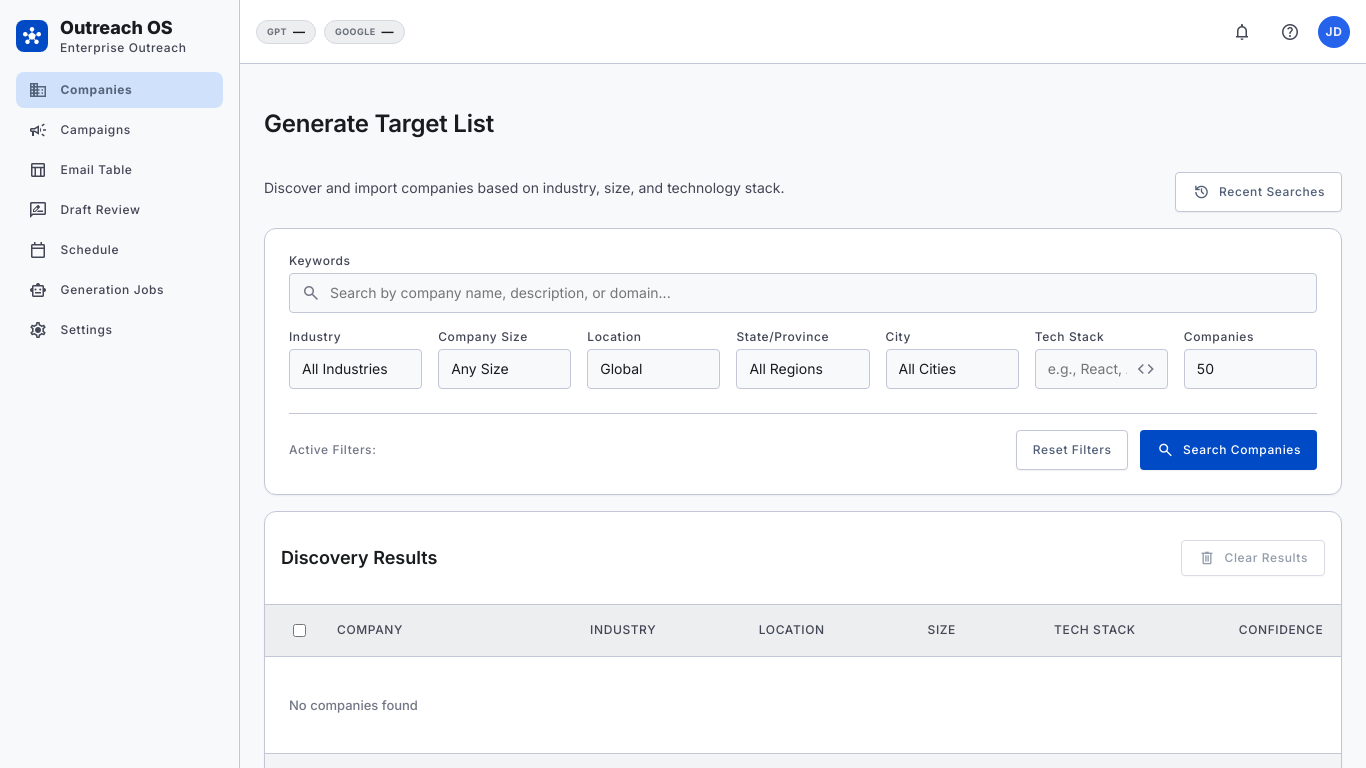
App navigation › switches between Generation Jobs and Companies from the sidebar
Expected: the heading "Generate Target List" is shown, [264,109,494,138]
Expected: the button named "Notifications" is shown, [1222,12,1262,52]
Click the button "Generation Jobs": coordinates (120, 290) [16,272,223,308]
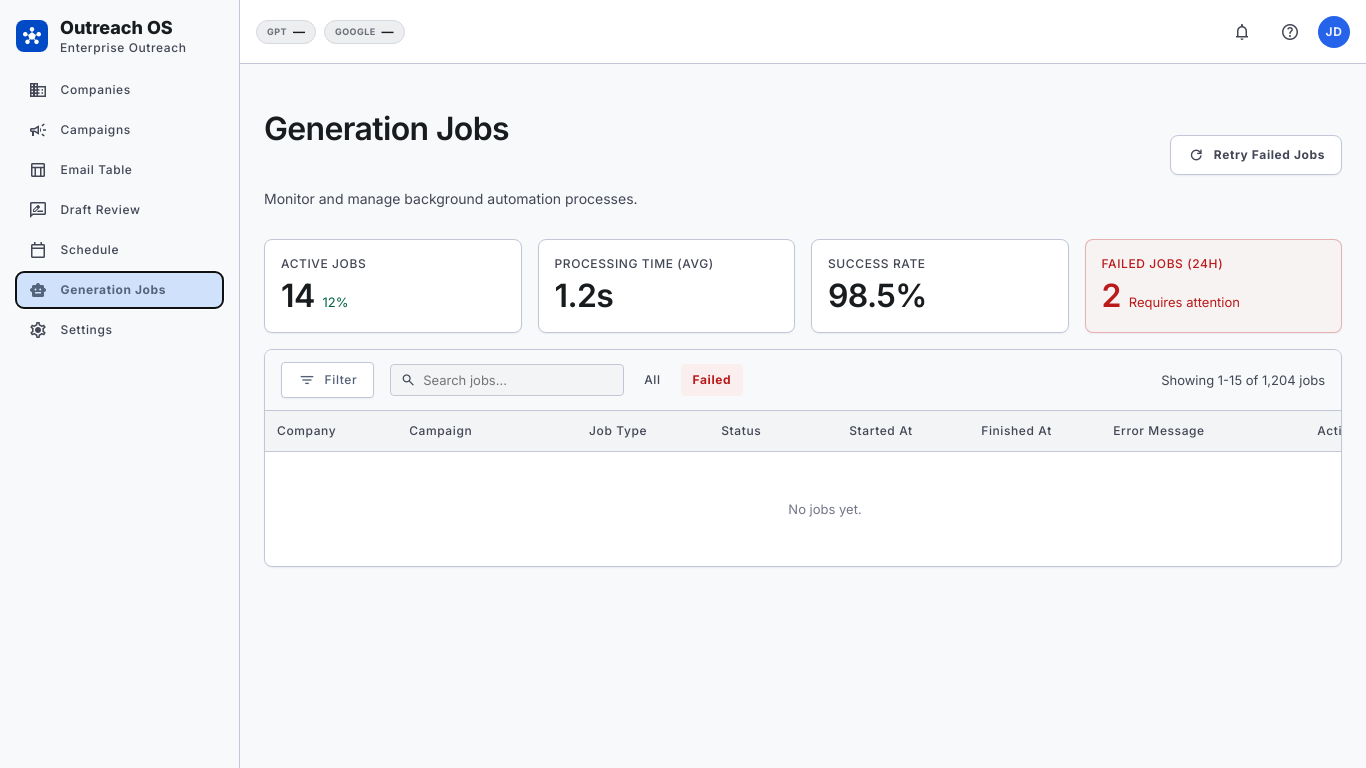
Expected: the heading "Generation Jobs" is shown, [264,109,509,148]
Click the button "Companies": coordinates (120, 90) [16,72,223,108]
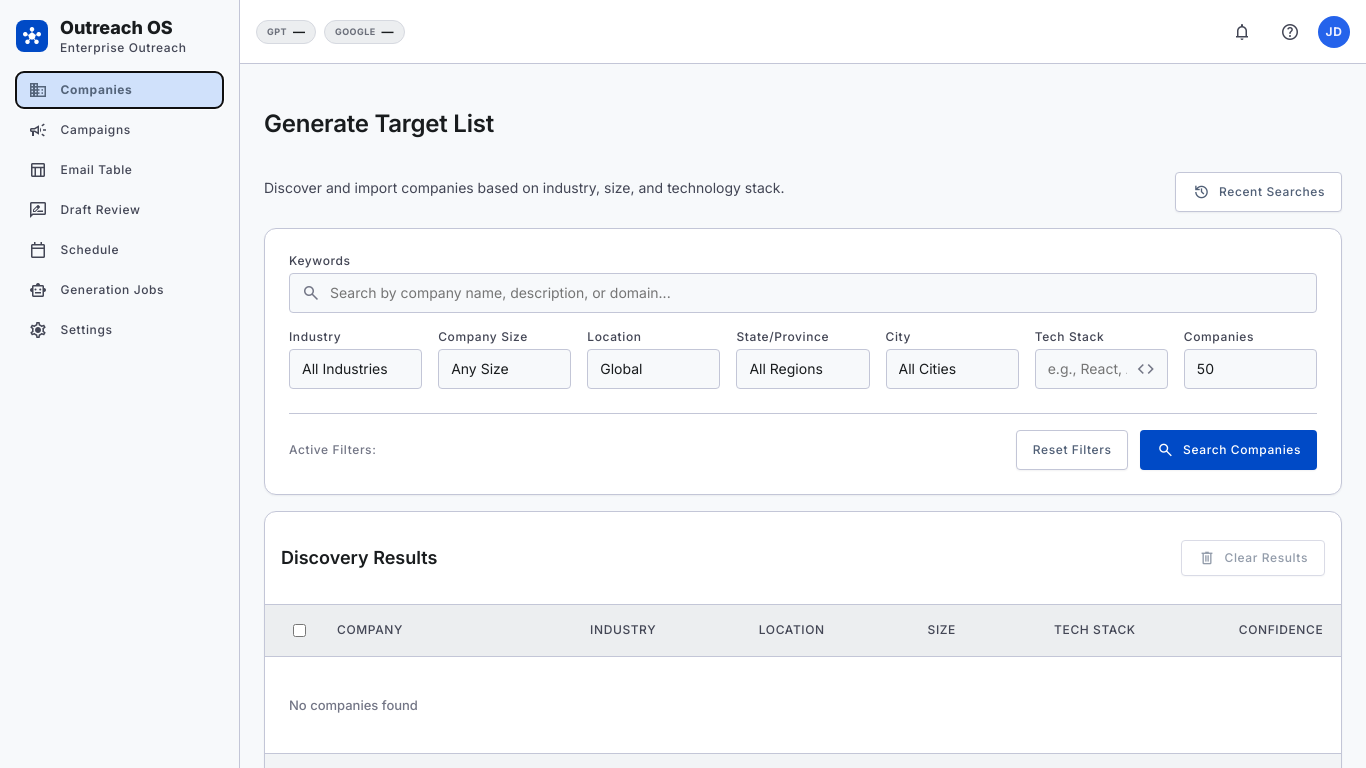
Expected: the button named "Notifications" is shown, [1222,12,1262,52]
Expected: the heading "Generate Target List" is shown, [264,109,494,138]
Click the button "Campaigns": coordinates (120, 130) [16,112,223,148]
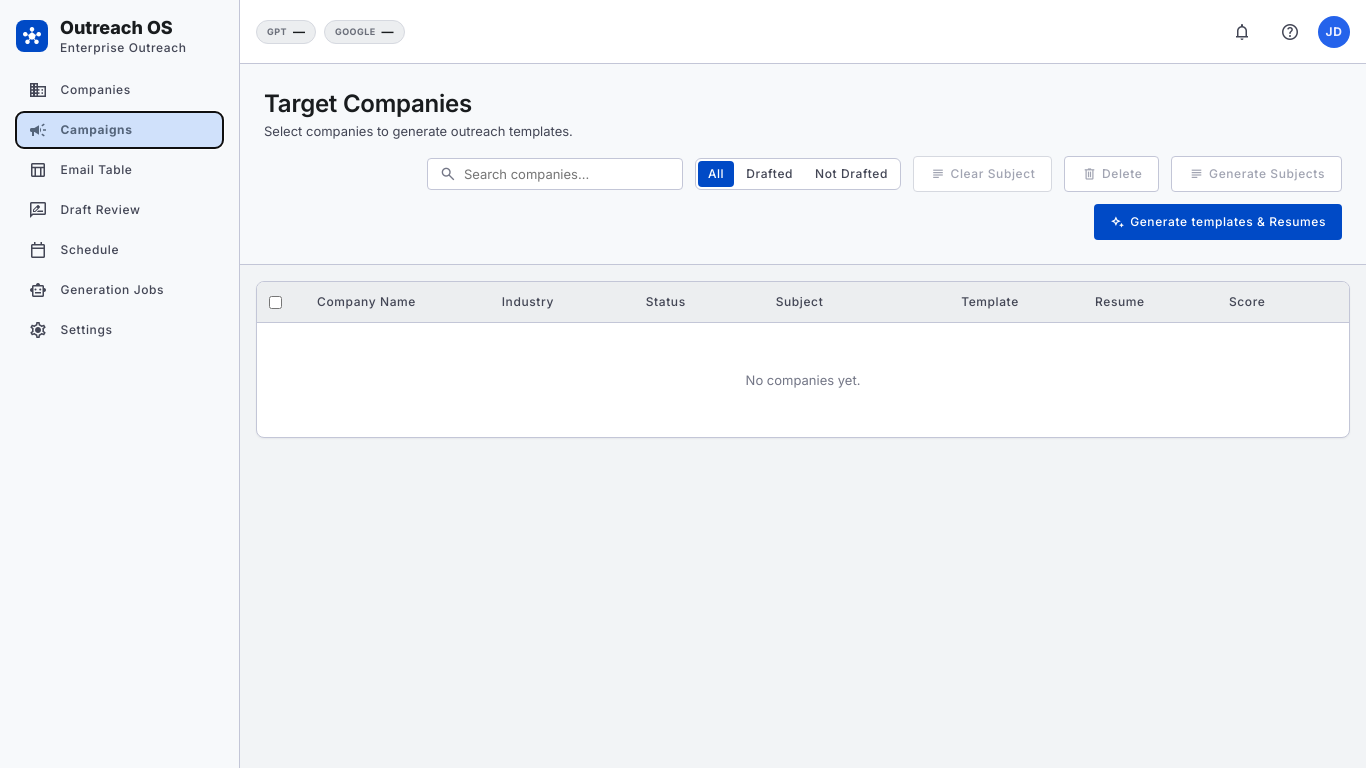
Expected: the heading "Target Companies" is shown, [264,89,472,118]
Click the button "Email Table": coordinates (120, 170) [16,152,223,188]
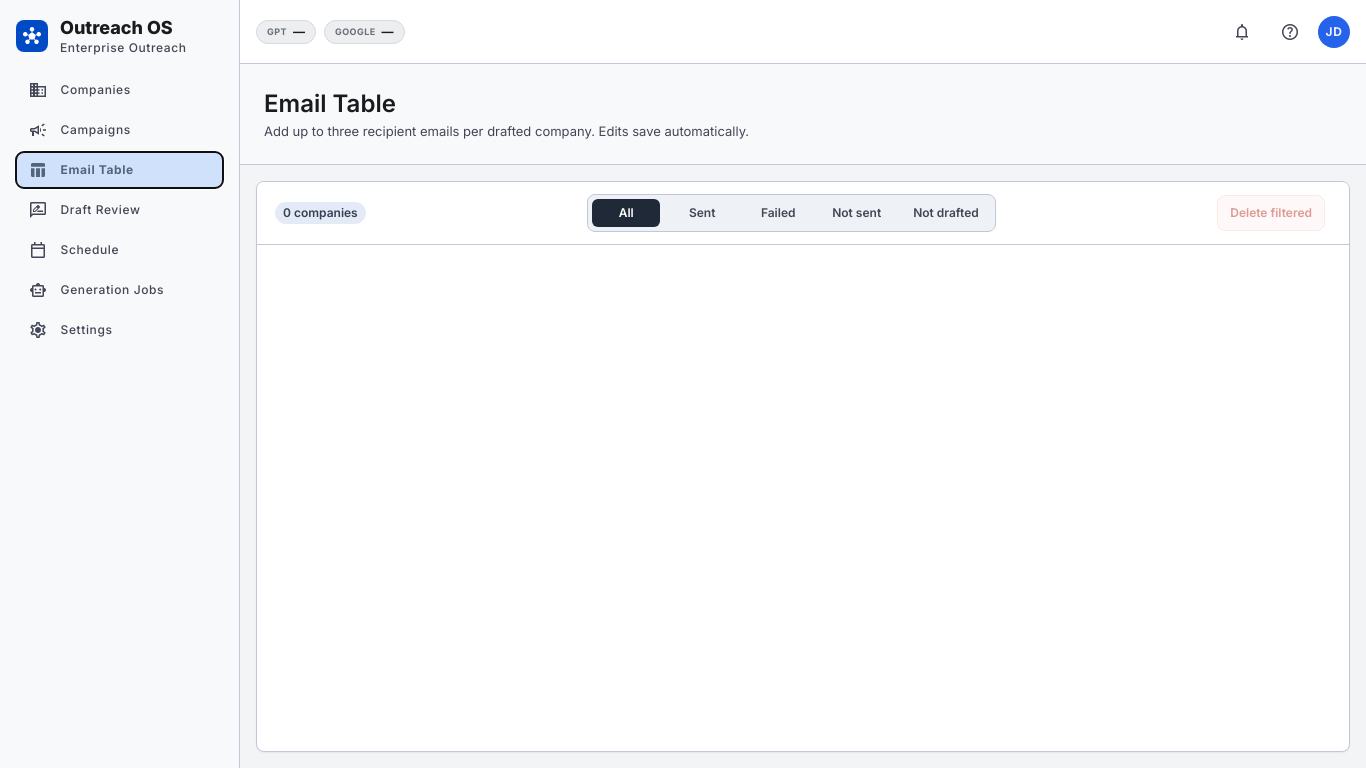
Expected: the heading "Email Table" is shown, [264,89,396,118]
Click the button "Draft Review": coordinates (120, 210) [16,192,223,228]
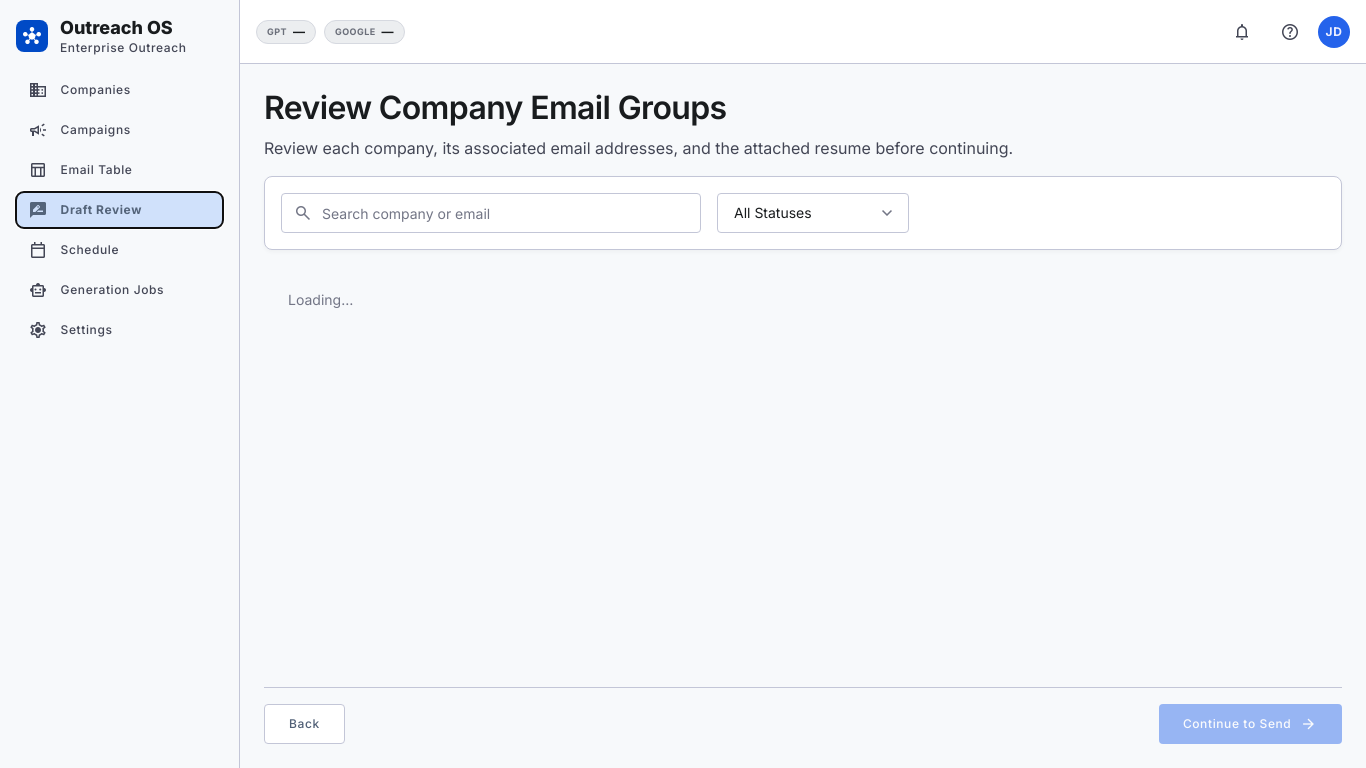
Expected: the heading "Review Company Email Groups" is shown, [264,88,726,127]
Expected: the button "Continue to Send" is disabled, [1159,704,1342,744]
Click the button "Generation Jobs": coordinates (120, 290) [16,272,223,308]
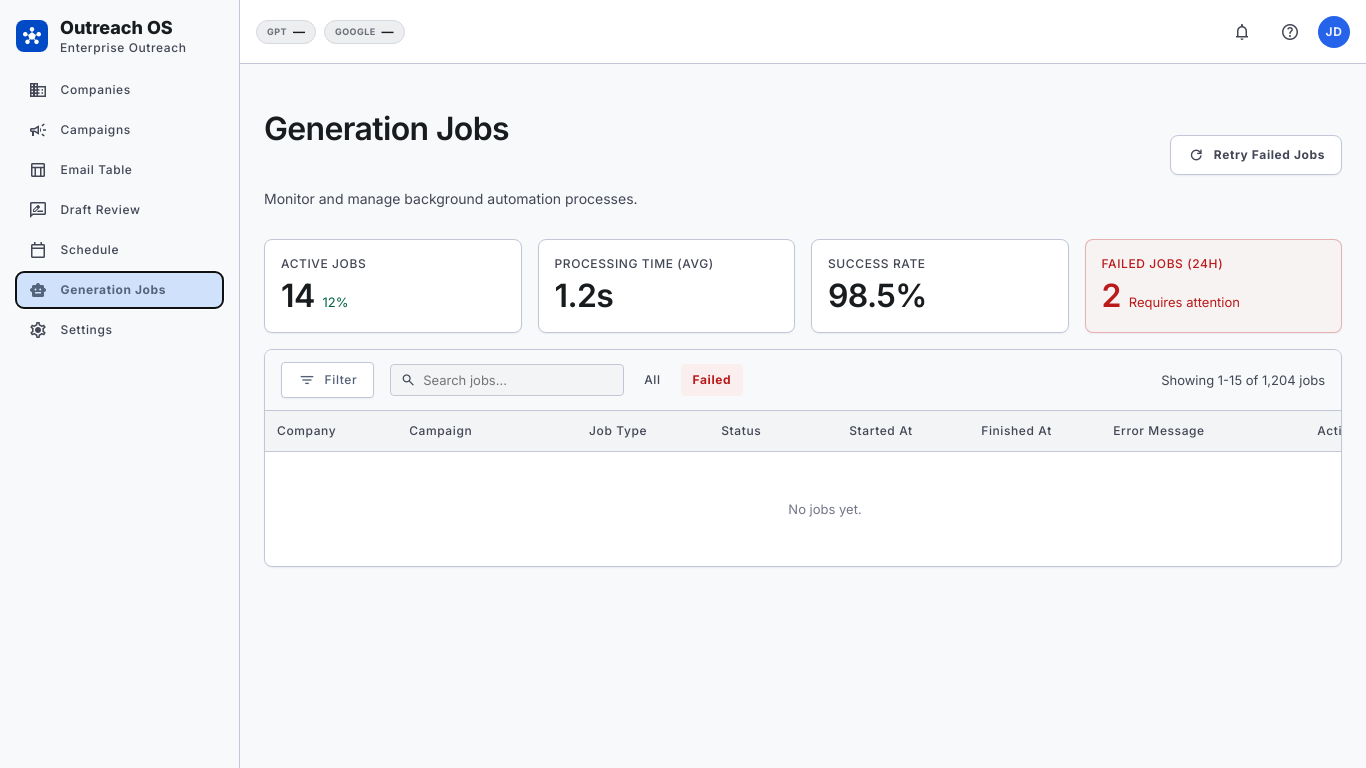
Expected: the heading "Generation Jobs" is shown, [264,109,509,148]
